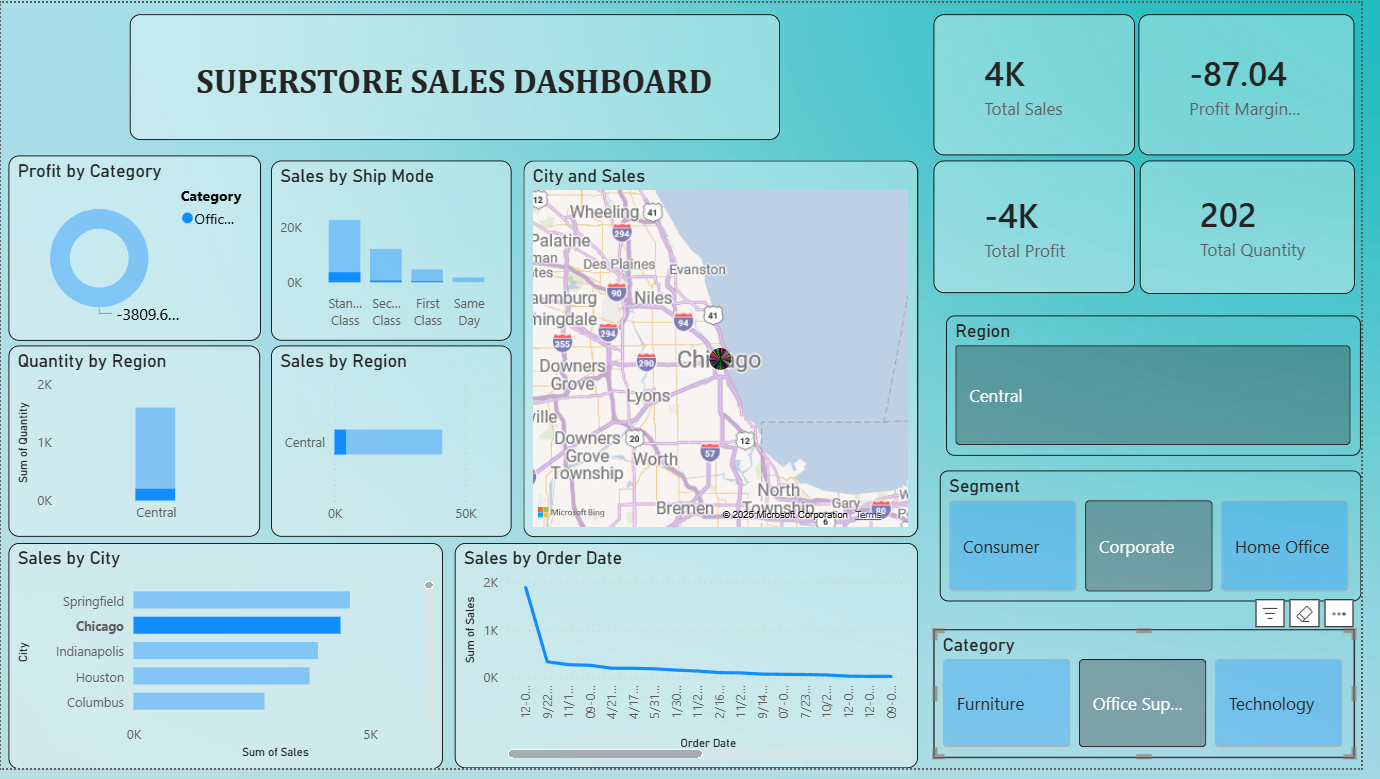

The dashboard page shown, as its layout file describes it:
{"tool":"powerbi","page":{"name":"Page 1","canvas":[1280,720],"ordinal":0},"visuals":[{"type":"cardVisual","fields":{"Data":["Sample - Superstore2.Profit Margin %"]},"box":[1070.9,10.5,203.5,132.6],"z":0},{"type":"cardVisual","fields":{"Data":["Sample - Superstore2.Total_Sales"]},"box":[877.9,10.5,189.5,132.6],"z":1000},{"type":"cardVisual","fields":{"Data":["Sample - Superstore2.Total Profit"]},"box":[877.9,147.7,189.5,124.4],"z":2000},{"type":"cardVisual","fields":{"Data":["Sample - Superstore2.Total_Quantity"]},"box":[1072.1,147.7,202.3,125.6],"z":3000},{"type":"clusteredBarChart","title":"Sales by City","fields":{"Category":["Sample - Superstore2.City"],"Y":["Sum(Sample - Superstore2.Sales)"]},"box":[6.9,507.7,408.9,212.5],"z":4000},{"type":"clusteredBarChart","title":"Sales by Region","fields":{"Y":["Sum(Sample - Superstore2.Sales)"],"Category":["Sample - Superstore2.Region"]},"box":[254.7,322.1,226.7,180.2],"z":5000},{"type":"columnChart","title":"Quantity by Region","fields":{"Category":["Sample - Superstore2.Region"],"Y":["Sum(Sample - Superstore2.Quantity)"]},"box":[7,322,237,180],"z":6000},{"type":"donutChart","title":"Profit by Category","fields":{"Category":["Sample - Superstore2.Category"],"Y":["Sum(Sample - Superstore2.Profit)"]},"box":[7,143,237.2,174.4],"z":7000},{"type":"advancedSlicerVisual","fields":{"Values":["Sample - Superstore2.Region"]},"box":[883.7,294.2,390.7,131.4],"z":8000},{"type":"advancedSlicerVisual","fields":{"Values":["Sample - Superstore2.Segment"]},"box":[877.9,444.2,396.5,124.4],"z":9000},{"type":"advancedSlicerVisual","fields":{"Values":["Sample - Superstore2.Category"]},"box":[877.9,589.5,396.5,120.9],"z":10000},{"type":"lineChart","title":"Sales by Order Date","fields":{"Category":["Sample - Superstore2.Order Date"],"Y":["Sum(Sample - Superstore2.Sales)"]},"box":[426.7,508.1,436,211.6],"z":11000},{"type":"map","fields":{"Series":["Sample - Superstore2.Sales"],"Category":["Sample - Superstore2.City"]},"box":[491.9,147.7,370.9,354.7],"z":12000},{"type":"clusteredColumnChart","title":" Sales by Ship Mode","fields":{"Y":["Sum(Sample - Superstore2.Sales)"],"Category":["Sample - Superstore2.Ship Mode"]},"box":[254.7,147.7,226.7,169.8],"z":13000},{"type":"textbox","box":[15.1,33.7,847.7,95.3],"z":13001}]}

Visuals, with their boxes in screenshot pixels (x1, y1, x2, y2), scaled from the page's 1280x720 canvas onto the 1380x779 screenshot:
cardVisual - Sample - Superstore2.Profit Margin %: [1155,11,1374,155]
cardVisual - Sample - Superstore2.Total_Sales: [946,11,1151,155]
cardVisual - Sample - Superstore2.Total Profit: [946,160,1151,294]
cardVisual - Sample - Superstore2.Total_Quantity: [1156,160,1374,296]
"Sales by City" clusteredBarChart: [7,549,448,778]
"Sales by Region" clusteredBarChart: [275,348,519,543]
"Quantity by Region" columnChart: [8,348,263,543]
"Profit by Category" donutChart: [8,155,263,343]
advancedSlicerVisual - Sample - Superstore2.Region: [953,318,1374,460]
advancedSlicerVisual - Sample - Superstore2.Segment: [946,481,1374,615]
advancedSlicerVisual - Sample - Superstore2.Category: [946,638,1374,769]
"Sales by Order Date" lineChart: [460,550,930,778]
map - Sample - Superstore2.Sales x Sample - Superstore2.City: [530,160,930,544]
" Sales by Ship Mode" clusteredColumnChart: [275,160,519,344]
textbox: [16,36,930,140]
